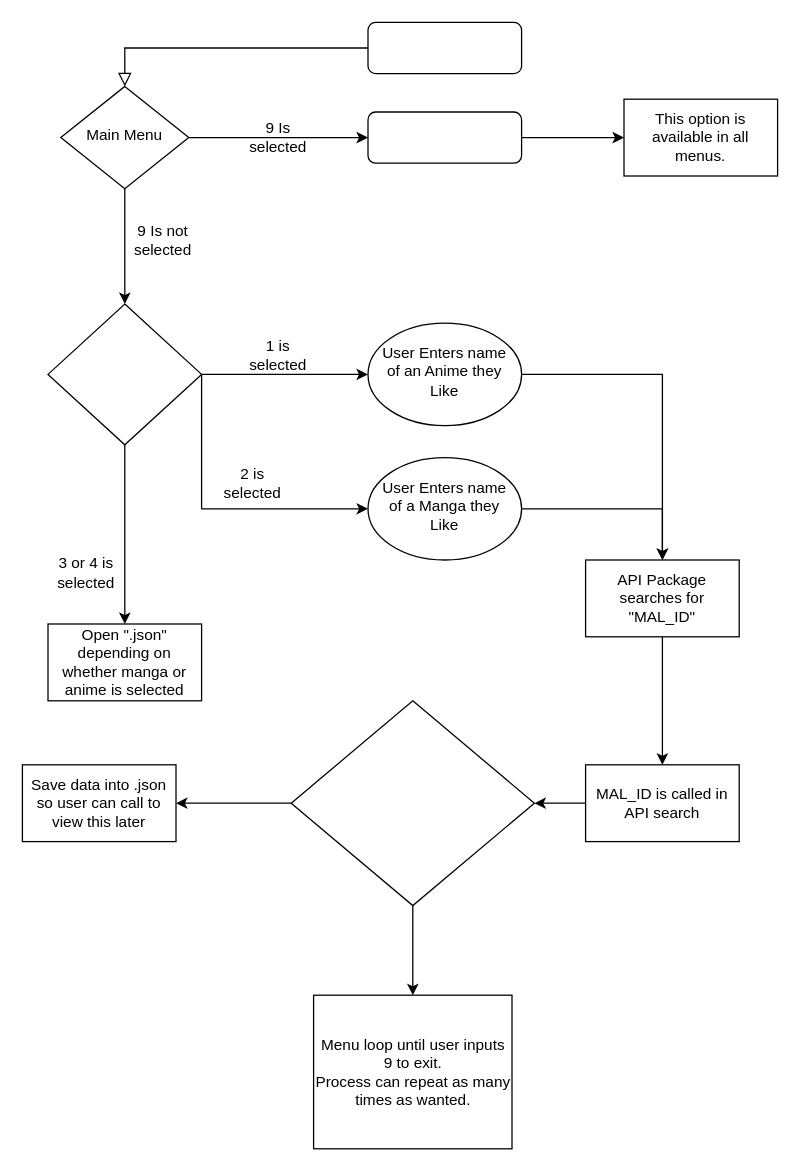
The diagram is 800 pixels wide and 1171 high, and some of its shapes have lost their labels. The centre of each missing label's shape, as x and y in pixels:
"App Logic" goes at point (444, 47).
"Enter Selection 1,2,3 or 4" goes at point (124, 374).
"Exit Application" goes at point (444, 137).
"Program returns top 5 recommendations for anime/manga entered" goes at point (412, 803).
